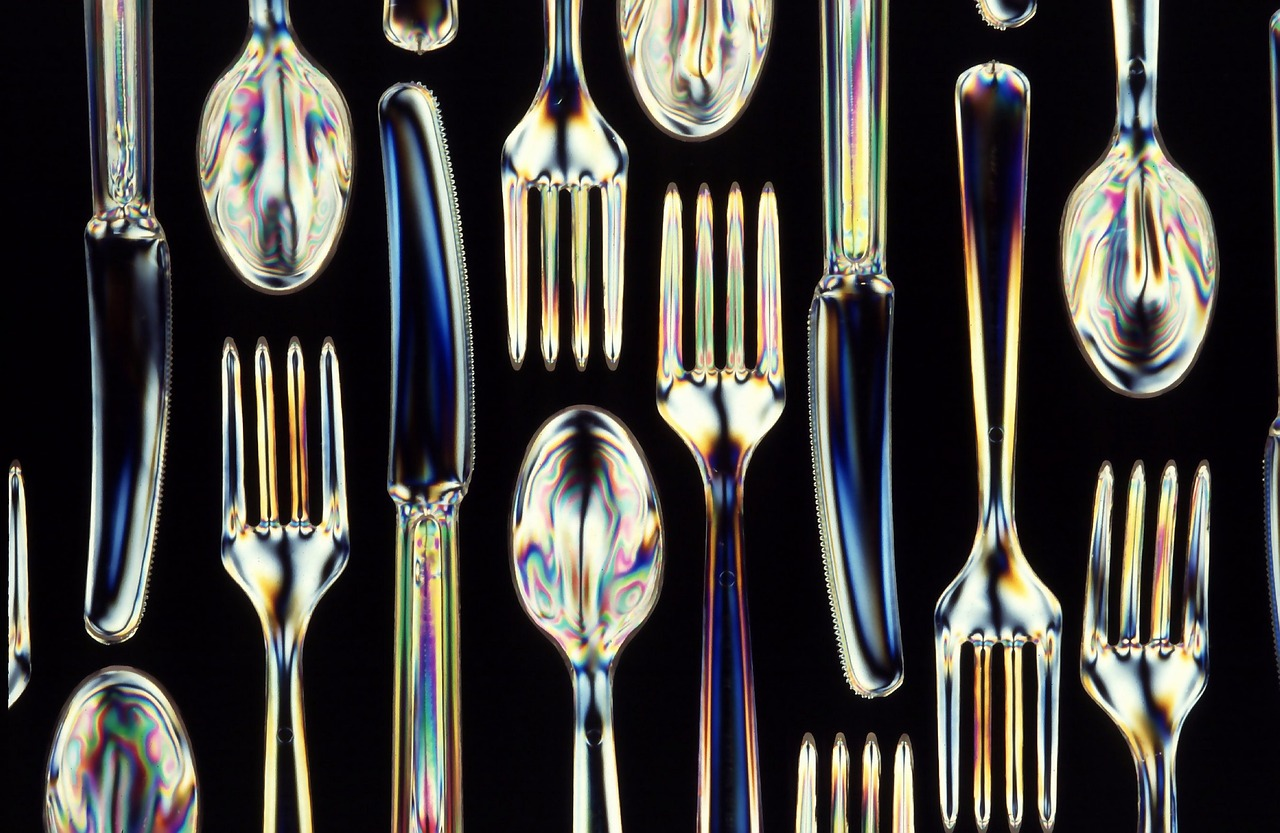knife: (367, 78, 482, 833), (64, 0, 187, 645), (810, 0, 900, 701)
